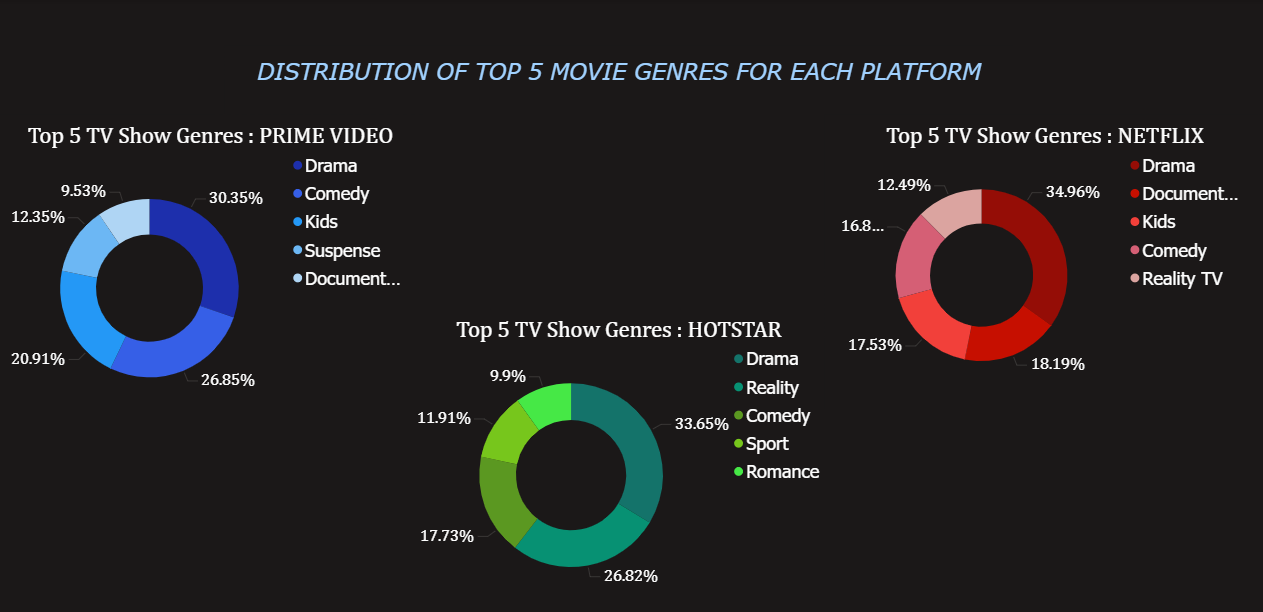

The dashboard page shown, as its layout file describes it:
{"tool":"powerbi","page":{"name":"Page 4","canvas":[1500,730],"ordinal":3},"visuals":[{"type":"pieChart","title":"Top 5 TV Show Genres : PRIME VIDEO","fields":{"Category":["prime.genre"],"Y":["CountNonNull(prime.title)"],"Series":["prime.type"]},"box":[0,136.7,502.4,379.2],"z":0},{"type":"pieChart","title":"Top 5 TV Show Genres : HOTSTAR","fields":{"Category":["hotstar.genre"],"Y":["CountNonNull(hotstar.title)"],"Series":["hotstar.type"]},"box":[475.4,365.7,517.8,363.8],"z":1},{"type":"pieChart","title":"Top 5 TV Show Genres : NETFLIX","fields":{"Category":["netflix.genre"],"Y":["CountNonNull(netflix.title)"],"Series":["netflix.type"]},"box":[977.8,136.7,521.6,348.4],"z":2},{"type":"textbox","box":[267.5,55.8,933.5,80.8],"z":3}]}

Visuals, with their boxes in screenshot pixels (x1, y1, x2, y2), scaled from the page's 1500x730 canvas onto the 1263x612 screenshot:
"Top 5 TV Show Genres : PRIME VIDEO" pieChart: rect(0, 115, 423, 433)
"Top 5 TV Show Genres : HOTSTAR" pieChart: rect(400, 307, 836, 611)
"Top 5 TV Show Genres : NETFLIX" pieChart: rect(823, 115, 1262, 407)
textbox: rect(225, 47, 1011, 115)
